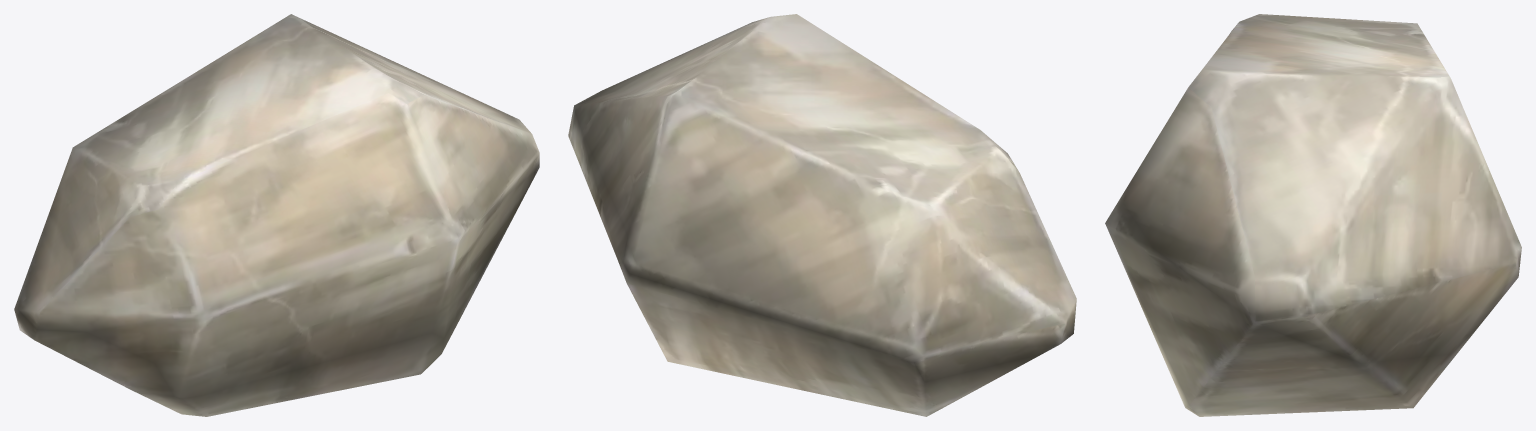
The picture shows the model from 3 angles, left to right: view 1: azimuth 30°, elevation 25°; view 2: azimuth 150°, elevation 25°; view 3: azimuth 270°, elevation 25°; orthographic projection. The views are drawn at different scales.
Parts seen in each view (by area): view 1: SM_Gemstone_Diamond_01_LOD0; view 2: SM_Gemstone_Diamond_01_LOD0; view 3: SM_Gemstone_Diamond_01_LOD0.
Part boxes in pixels (x1,y1,x2,y2): SM_Gemstone_Diamond_01_LOD0: [14, 14, 539, 416]; SM_Gemstone_Diamond_01_LOD0: [568, 14, 1076, 416]; SM_Gemstone_Diamond_01_LOD0: [1105, 14, 1521, 416].
Size of the model in its own units: 0.3544 by 0.1969 by 0.2251.
1 material, 1 textured.
